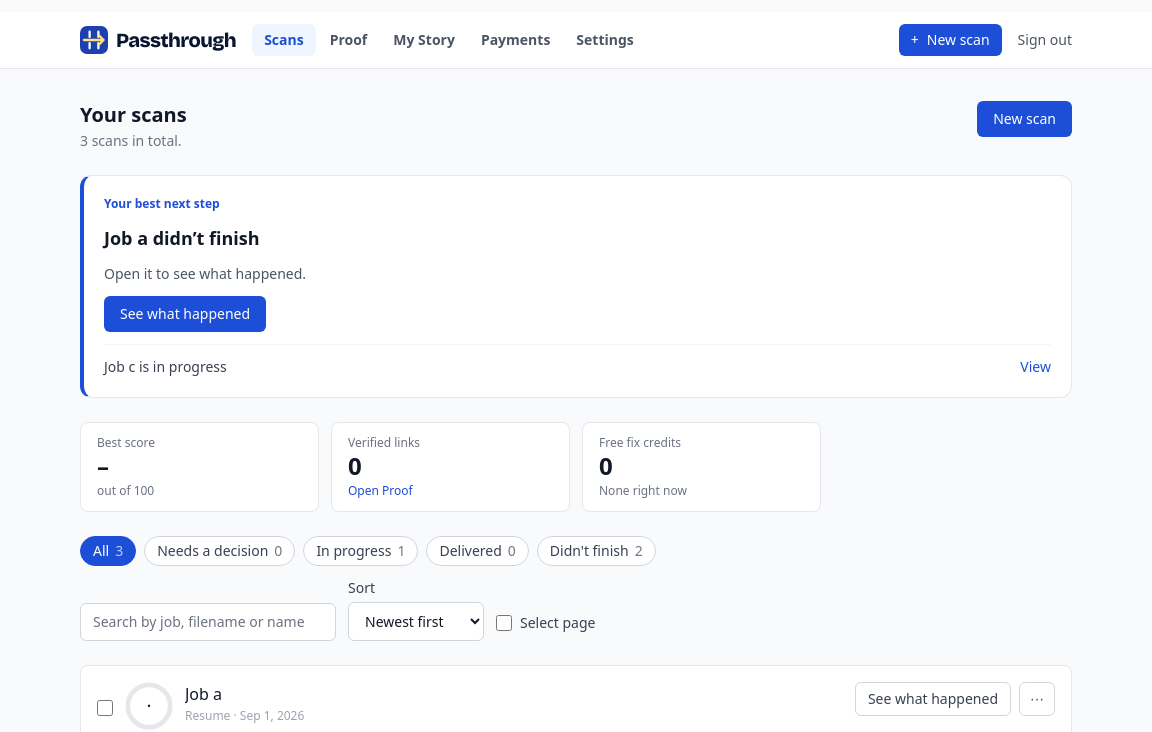
Test case: hand-picked delete › in-flight scans cannot be ticked, and "Select page" skips them
Expected: the link "Job a" is shown, [185,683,222,705]
Click the checkbox labelled "Select page": click(504, 623) [496,615,512,631]
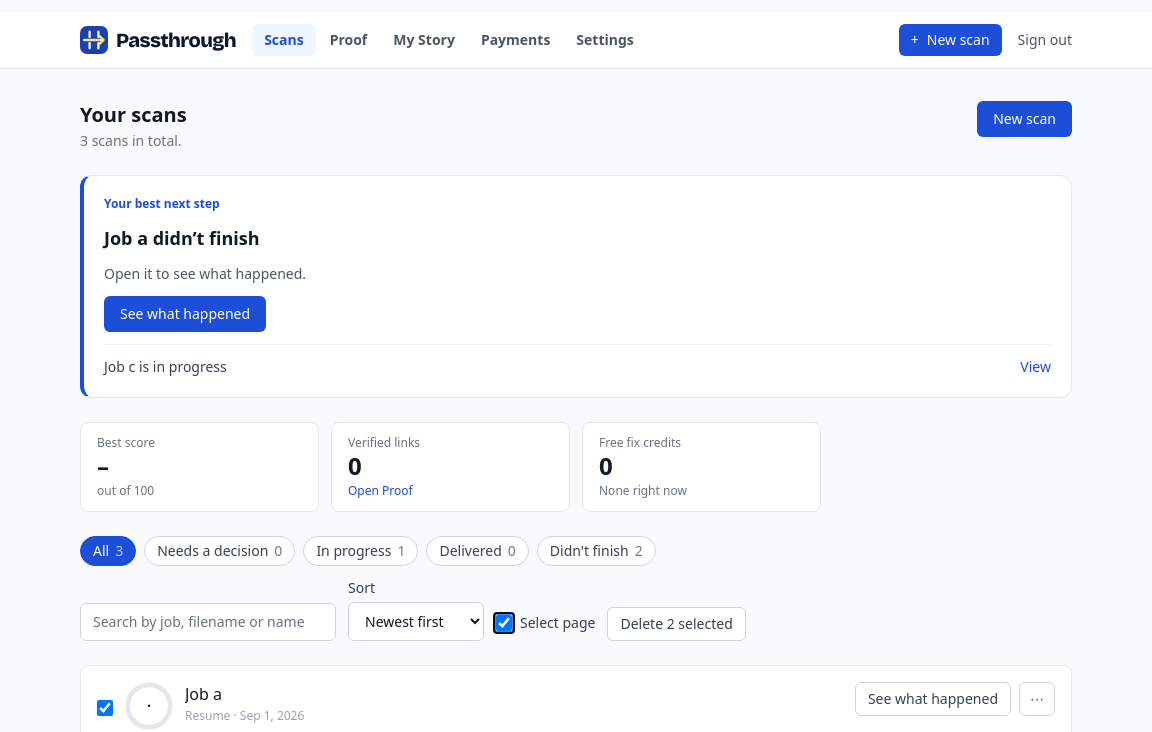
Result: the checkbox named "Select Job a" is checked at [97,700,113,716]
Result: the button "Delete 2 selected" is shown at [608,607,746,641]
